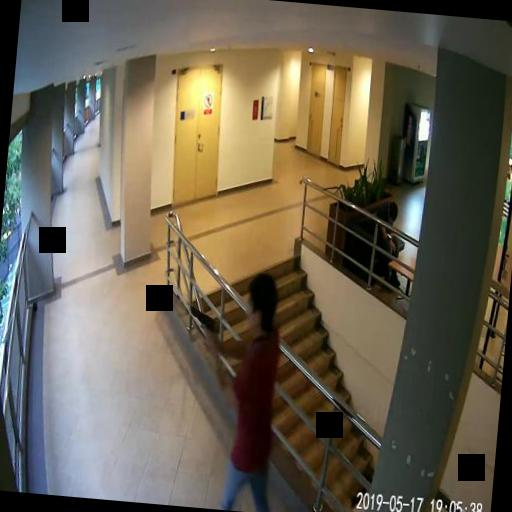Handgun: (185, 306, 215, 348)
